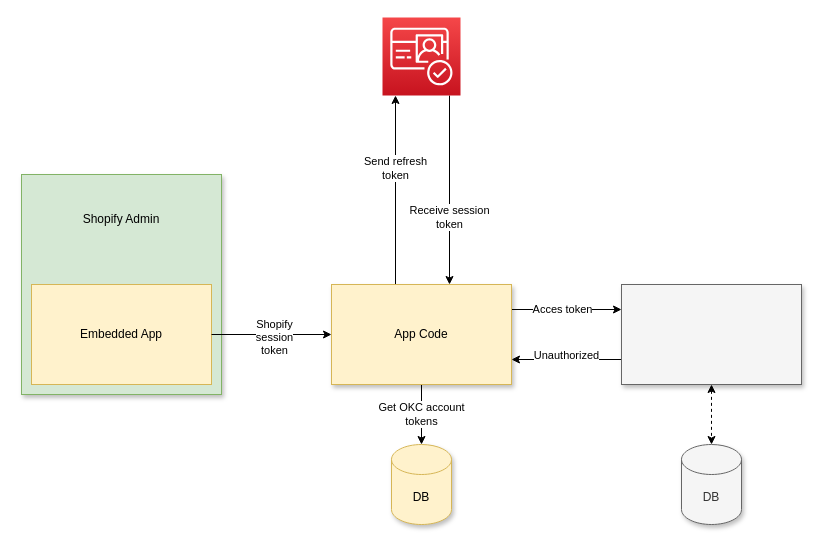
This 825x549 diagram has some shape labels left out. The centre of each missing label's shape, as x and y in pixels:
"Cognito App Client" belongs at (x=421, y=56).
"OK Capsule API" belongs at (x=712, y=336).
